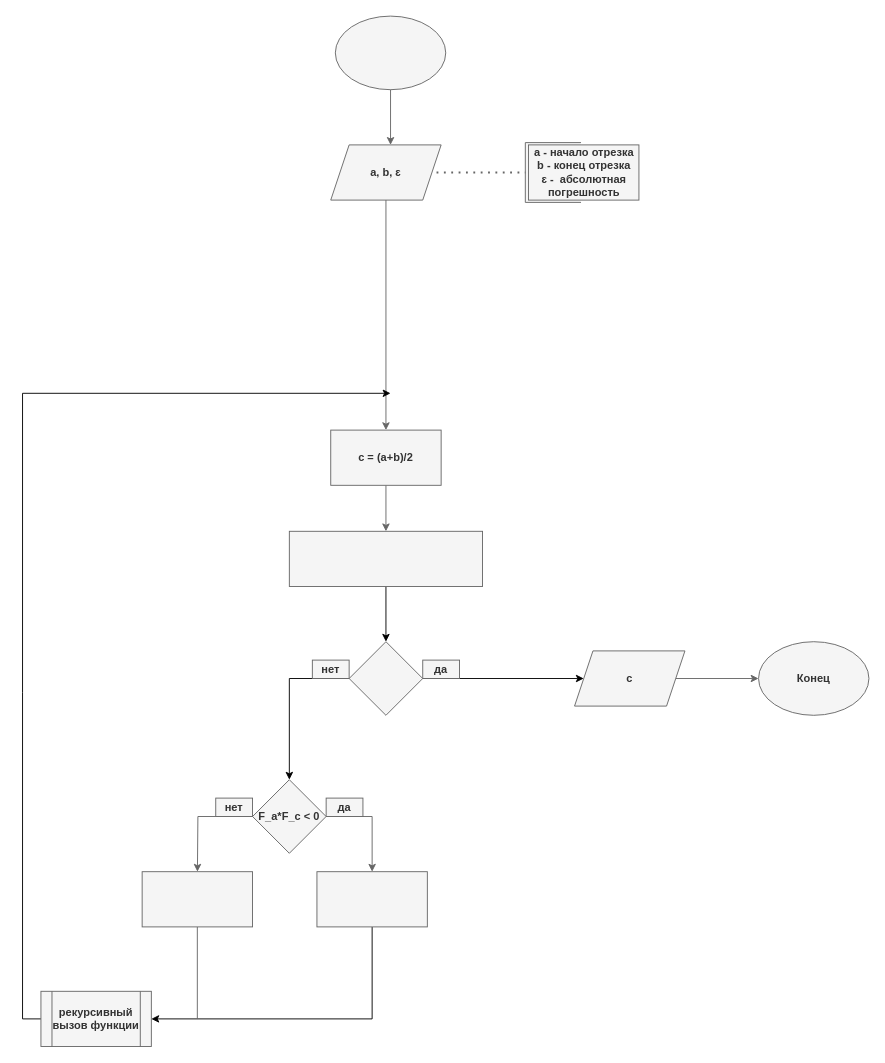
The diagram is 885 pixels wide and 1063 high, and some of its shapes have lost their labels. The shapes that lost their labels are listed below. From the top down, each one's centre as x and y in pixels, then its label:
At (390,52): "Начало".
At (385,558): "F_a = e -0,5a -(a-0,8) 2 +0,1 F_c = e -0,5c -(c-0,8) 2 +0,1".
At (385,678): "|F_c| < ɛ".
At (197,899): "a = c".
At (371,899): "b = c".
